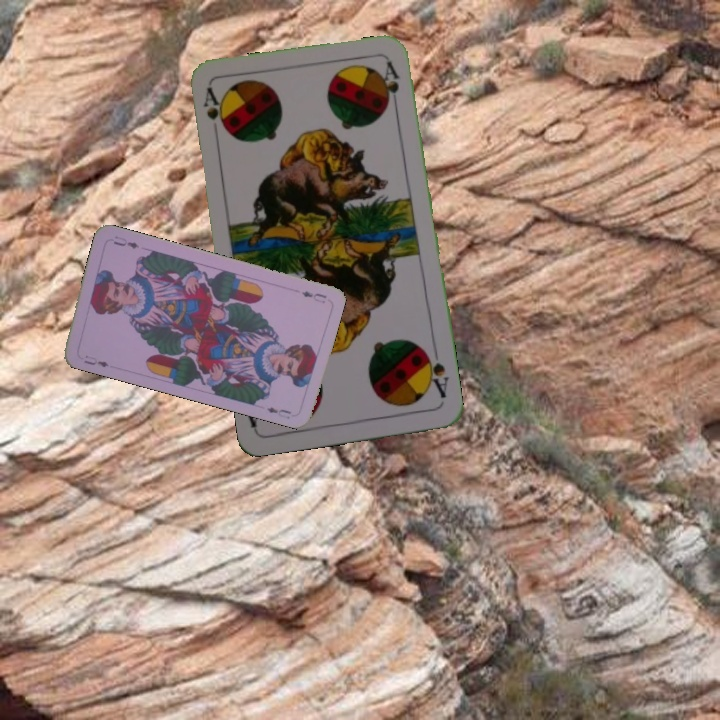EU: (297, 286, 329, 306), (80, 354, 111, 370)
SA: (420, 345, 451, 401), (199, 84, 229, 136)
